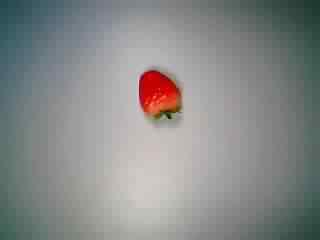strawberry: (123, 62, 189, 124)
